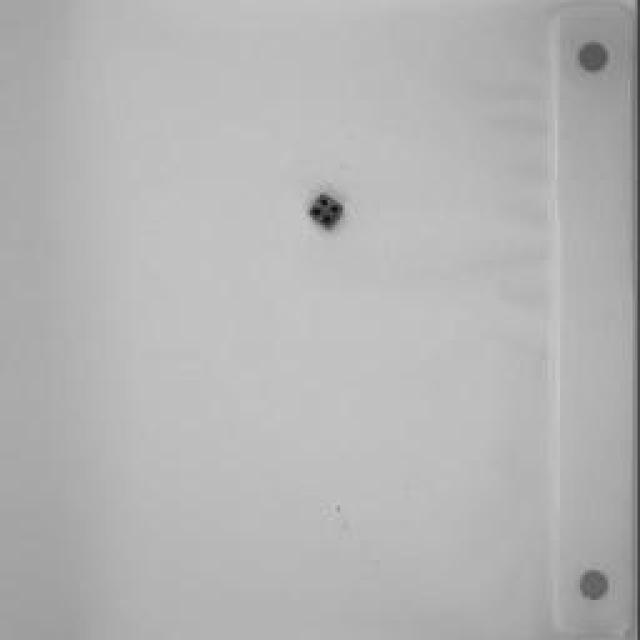dice_4: (311, 195, 349, 233)
